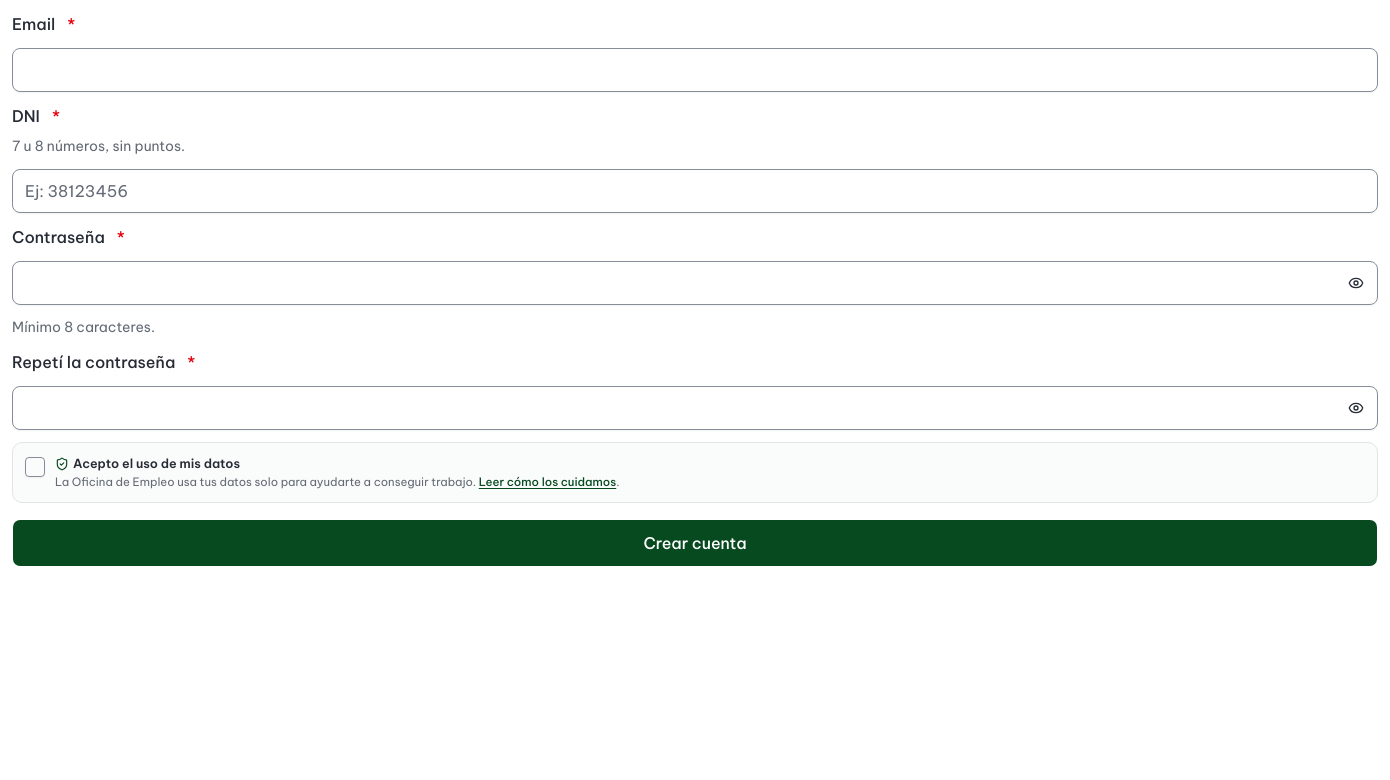
Test: shows the mismatch under the repeated password
The image size is (1390, 780).
Step 1. Type "persona@ejemplo.com" into the field labelled "Email *" → point(695, 70), box [12, 48, 1378, 92]
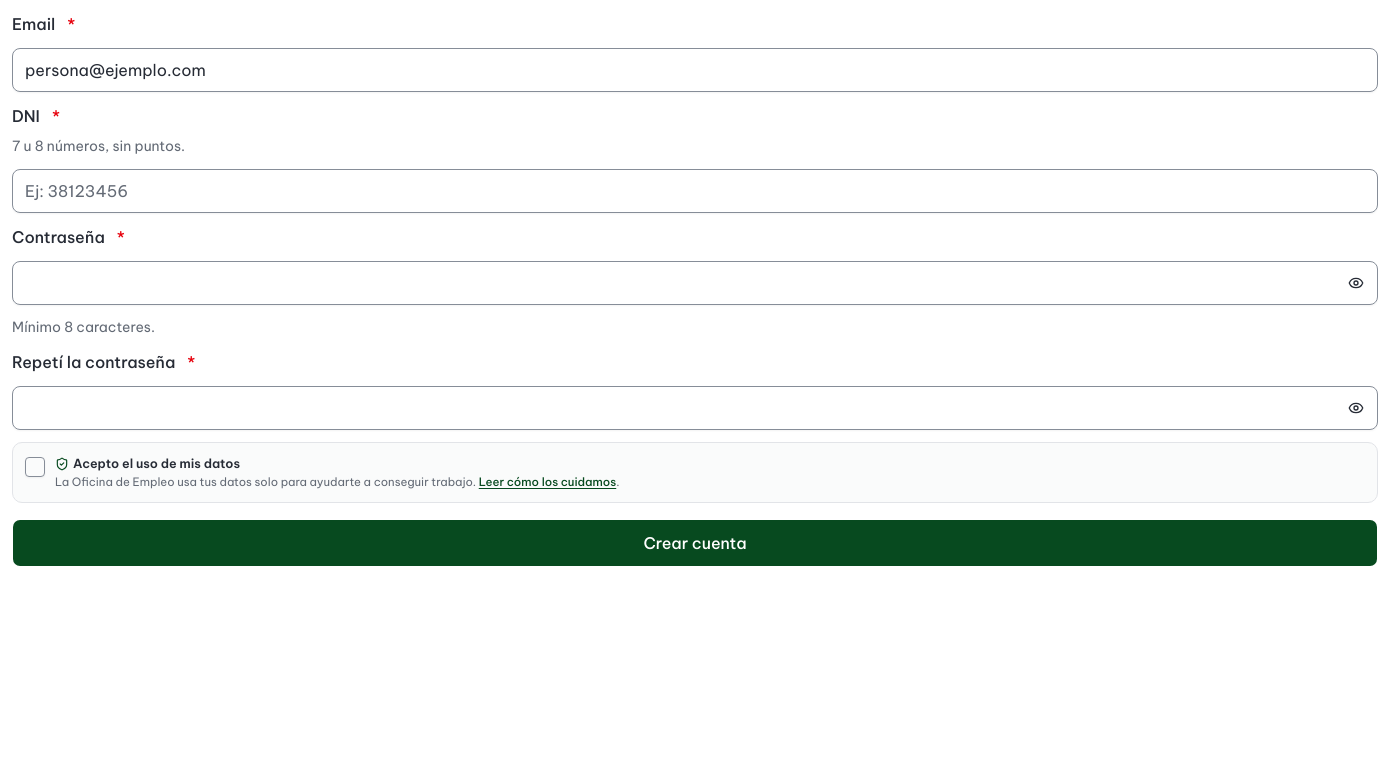
Step 2. Type "38123456" into the field labelled "DNI *" → point(695, 191), box [12, 169, 1378, 213]
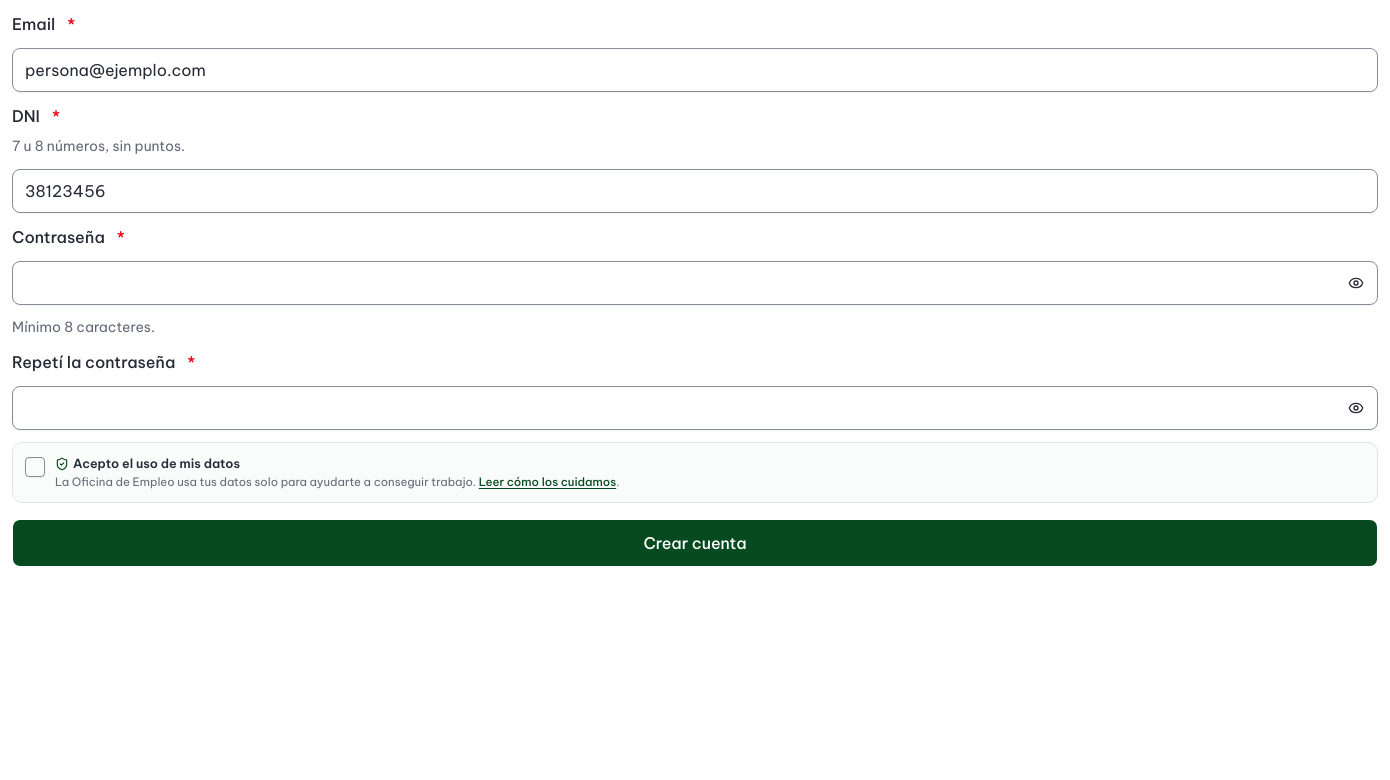
Step 3. Type "12345678" into the password field labelled "Contraseña *" → point(695, 283), box [12, 261, 1378, 305]
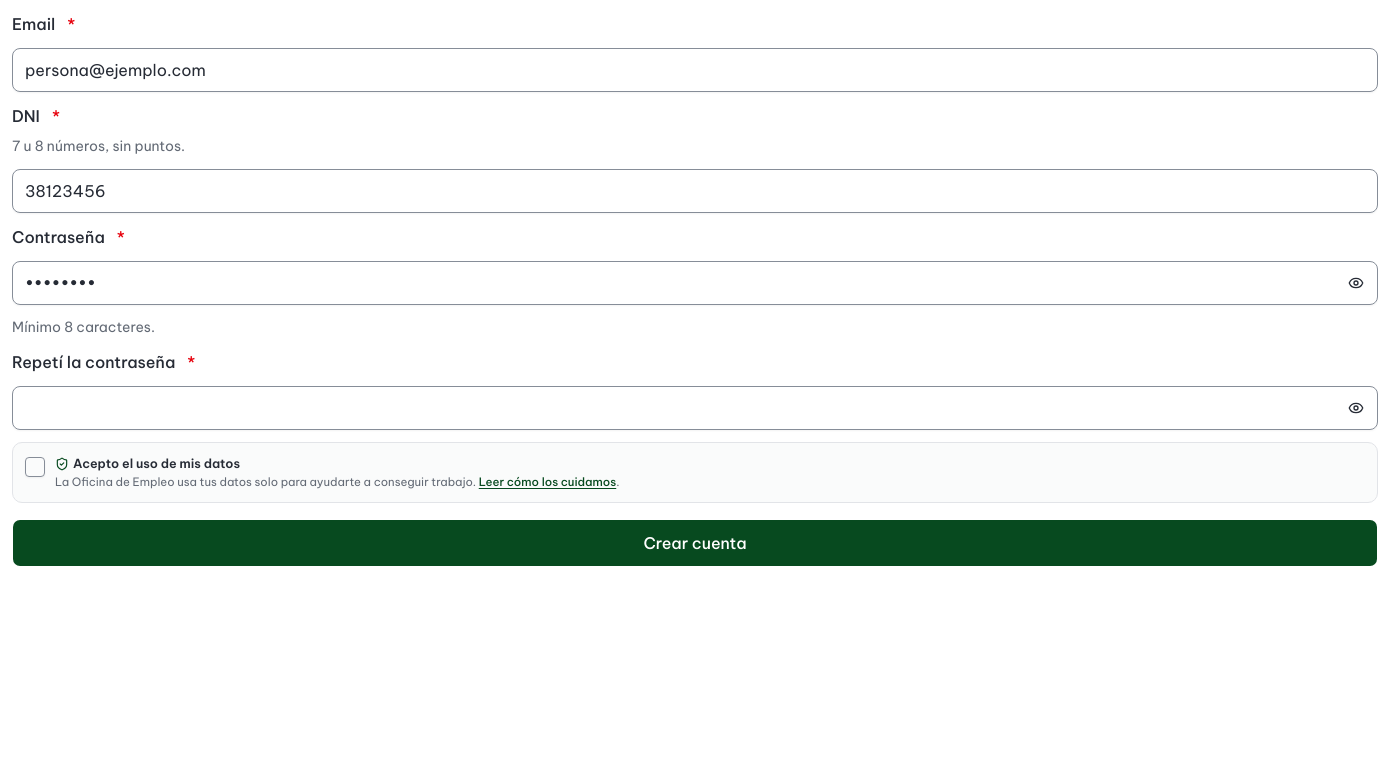
Step 4. Type "87654321" into the password field labelled "Repetí la contraseña *" → point(695, 408), box [12, 386, 1378, 430]
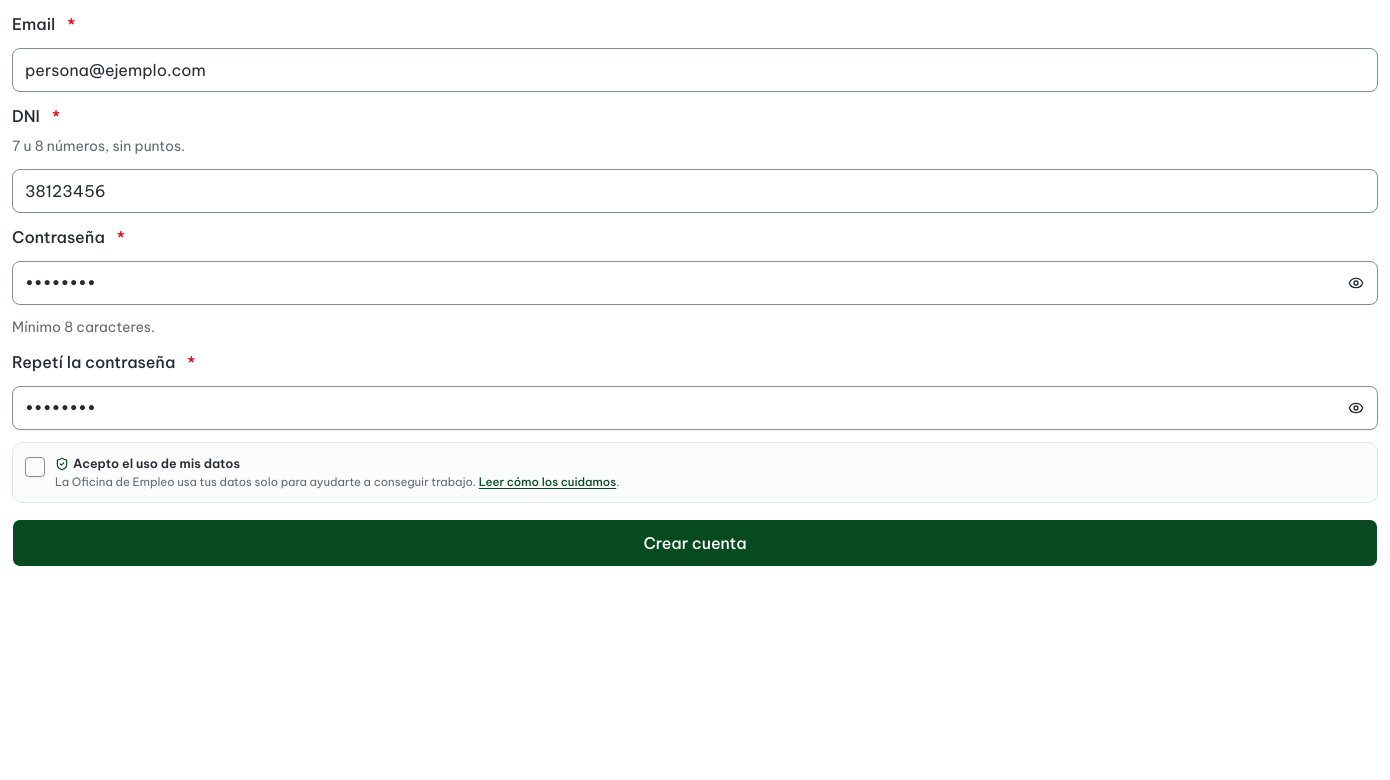
Step 5. Click the checkbox named "Acepto el uso de mis datos" → point(35, 467), box [25, 457, 45, 477]
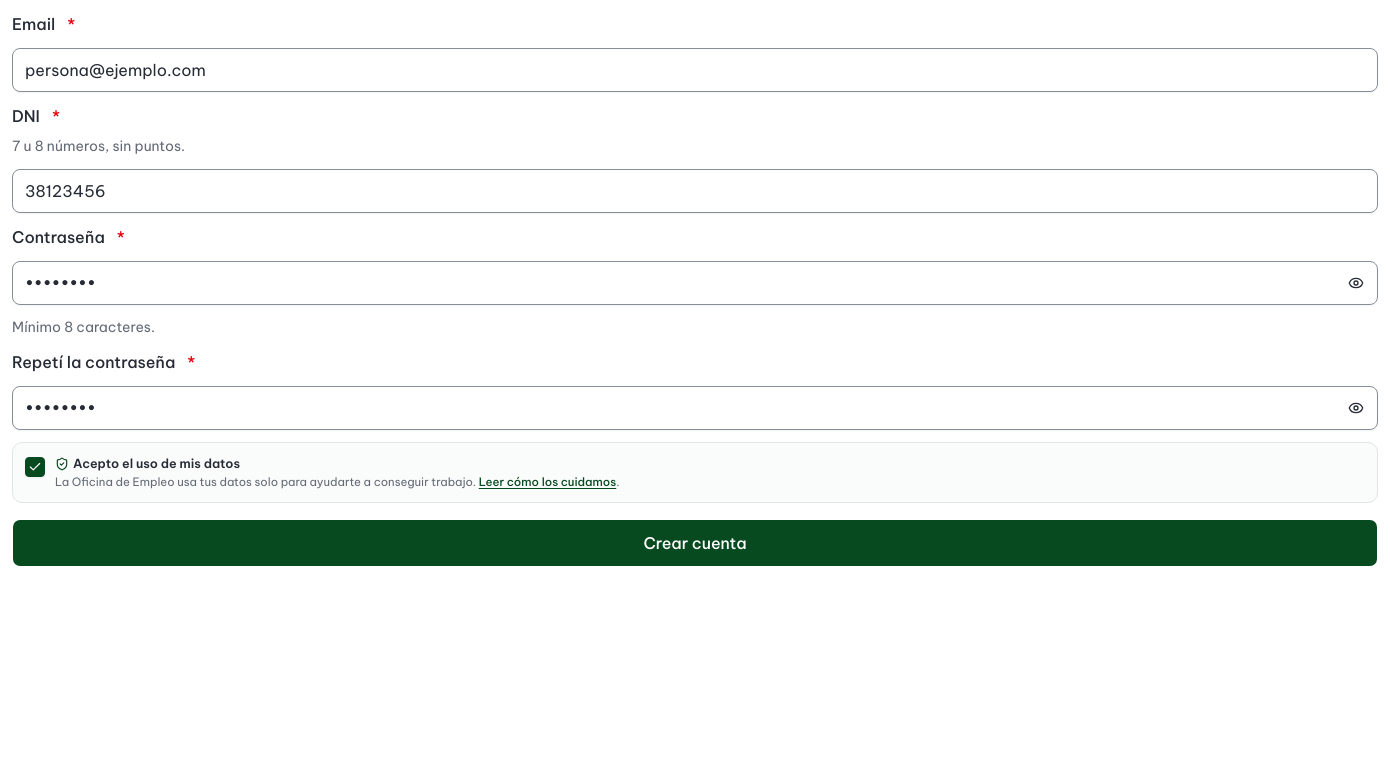
Step 6. Click the button "Crear cuenta" → point(695, 543), box [12, 519, 1378, 567]
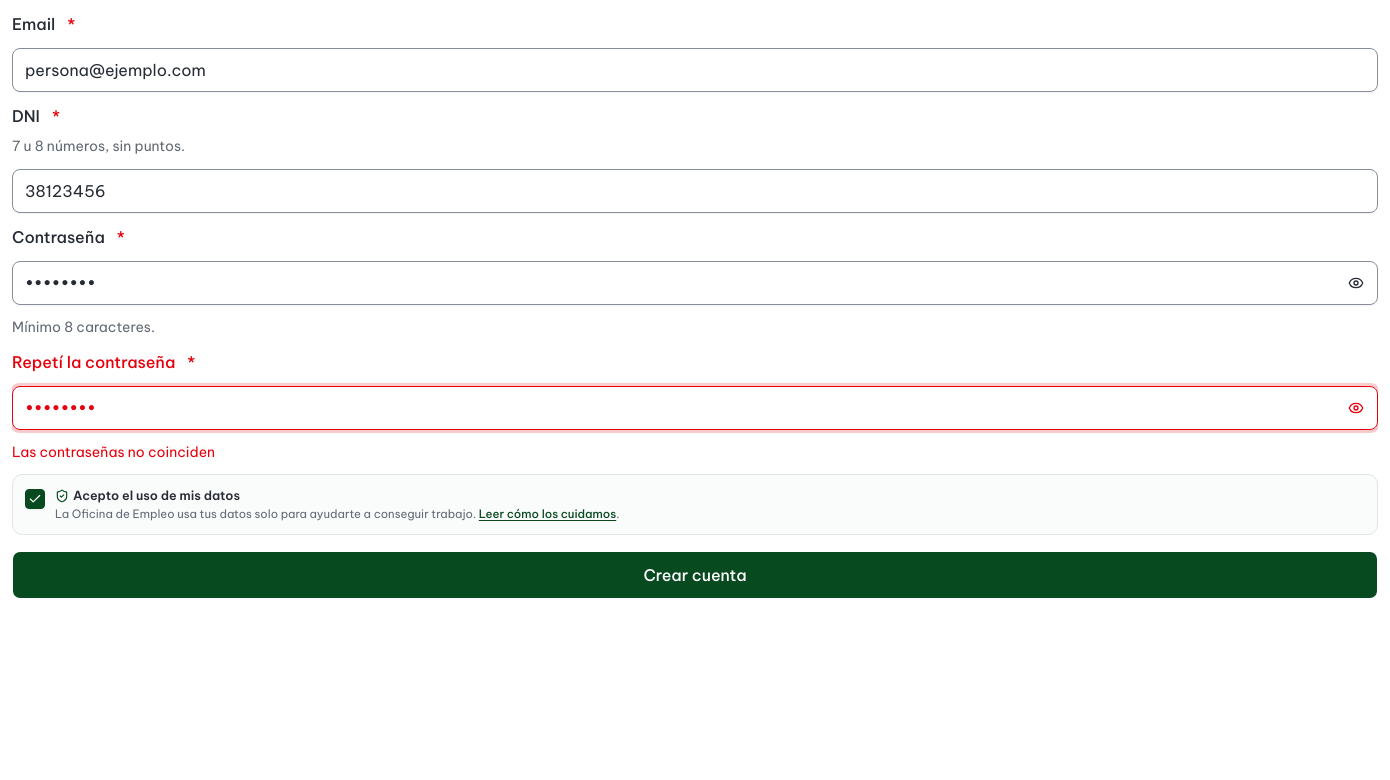
Check: the text "Las contraseñas no coinciden" is shown, box [12, 443, 215, 461]
